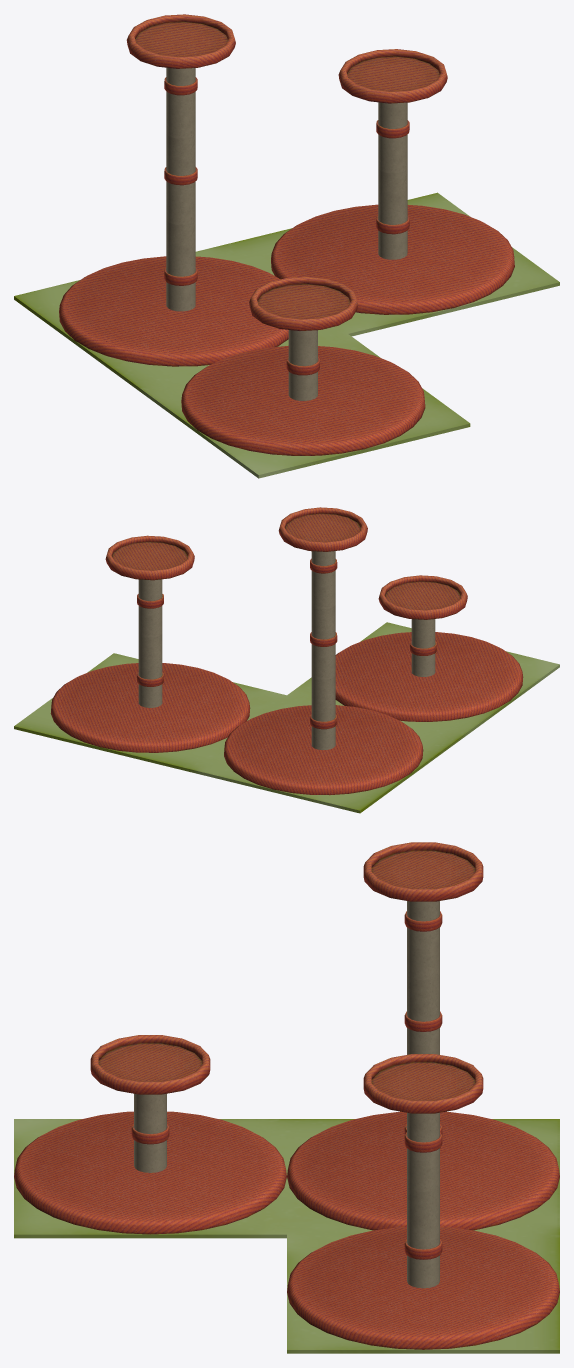
File: MDL_ 3_ TowerBow.fbx
3 views of the same model, one above another, from view 1: azimuth 30°, elevation 25°; view 2: azimuth 150°, elevation 25°; view 3: azimuth 270°, elevation 25° (orthographic). The views are drawn at different scales.
Parts seen in each view (by area): view 1: G_3_TowerBow; view 2: G_3_TowerBow; view 3: G_3_TowerBow.
Boxes of the visible parts, x1,y1,x2,y2 form: G_3_TowerBow: [14, 14, 559, 478]; G_3_TowerBow: [14, 507, 559, 813]; G_3_TowerBow: [14, 842, 559, 1353].
Size of the model in its own units: 400 by 255 by 400.
